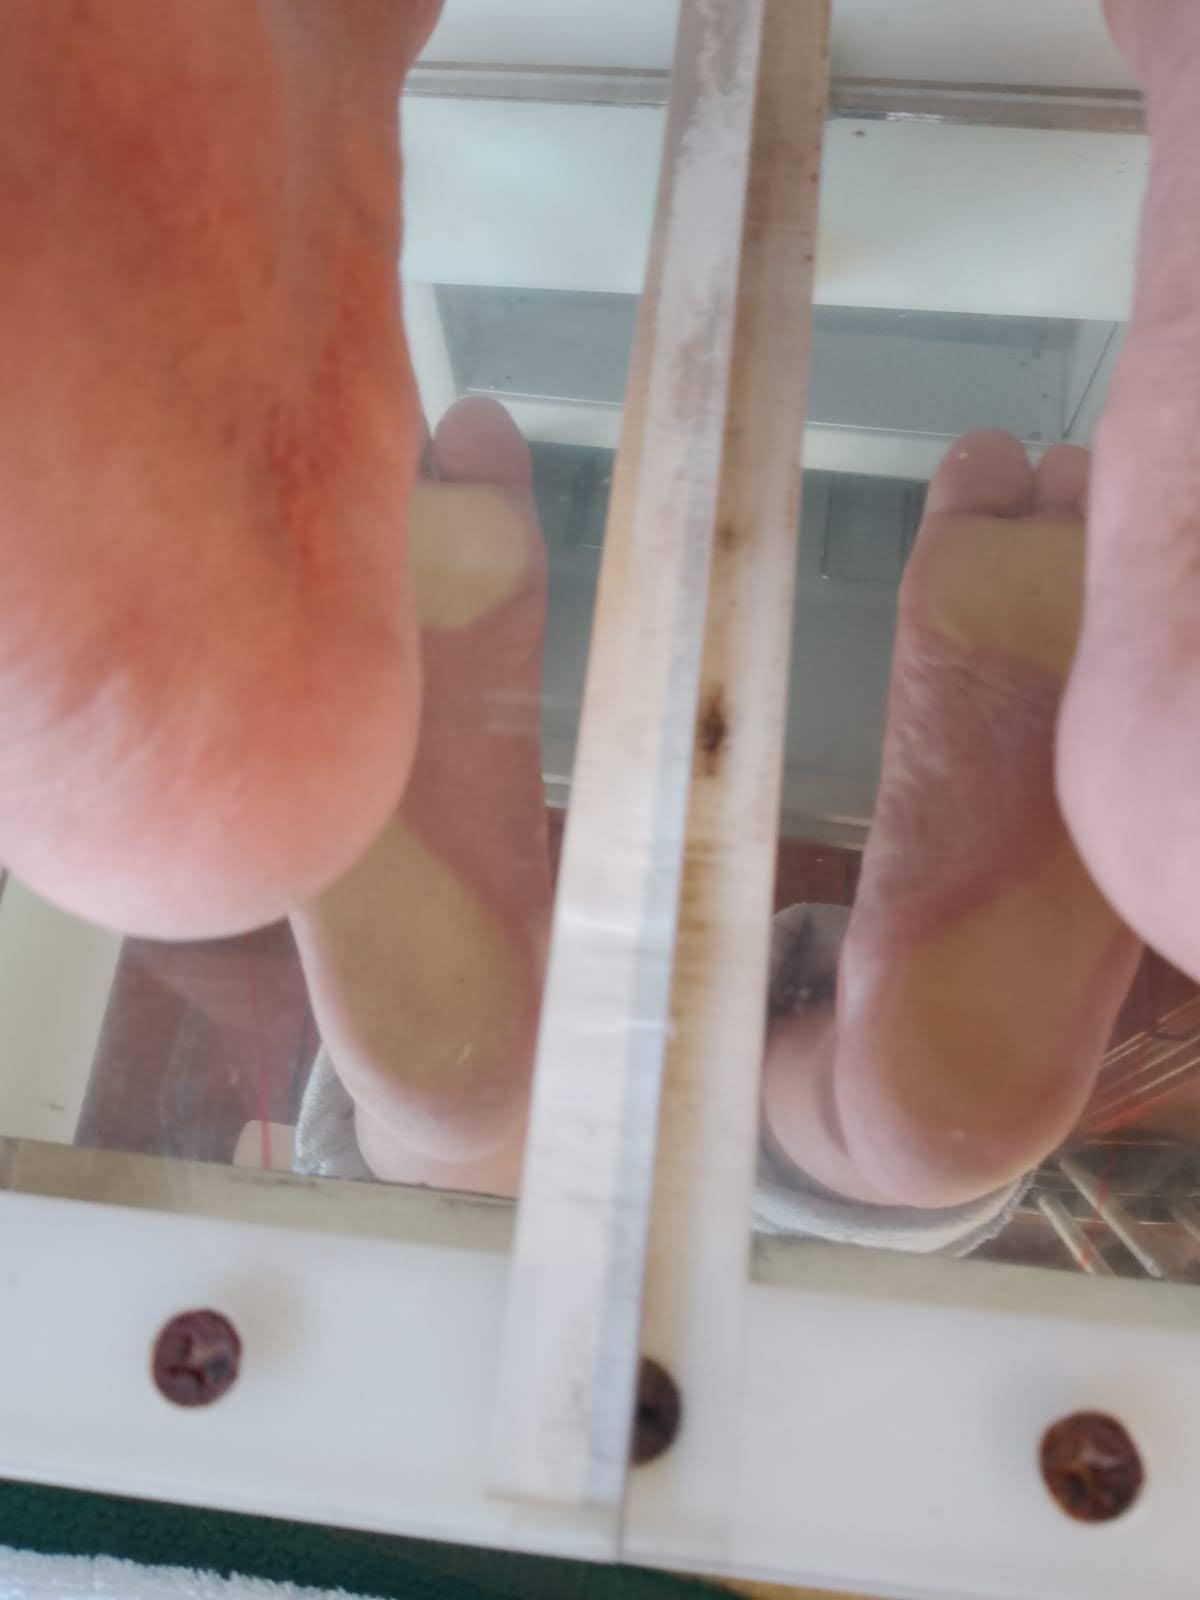Present: (188, 331, 595, 1168), (822, 367, 1166, 1260)
